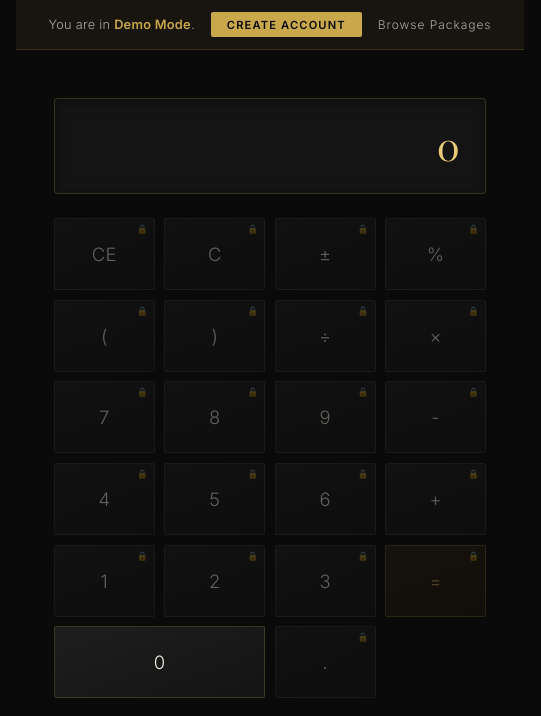
CalculatorPage › pressing 0 in demo mode updates the display
Click the button "0" at x=160, y=662, box top-left (54, 626), bottom-right (265, 698)
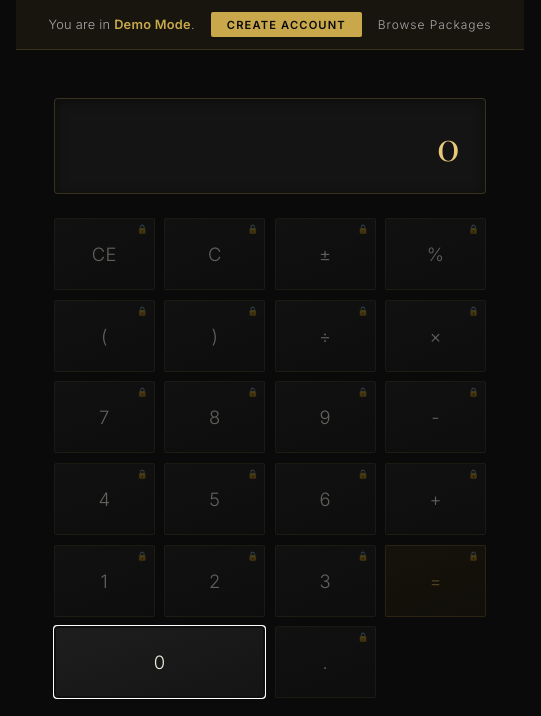
Click the button "0" at x=160, y=662, box top-left (54, 626), bottom-right (265, 698)
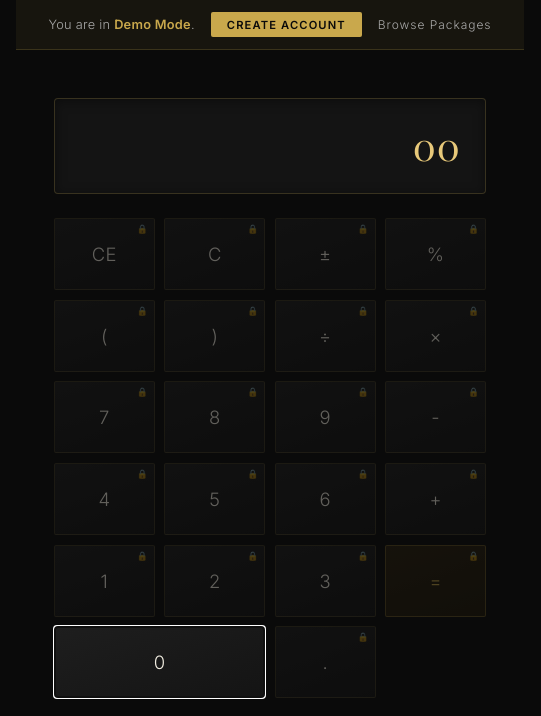
Expected: the text with test id "calc-display" reads "00", top-left (413, 119), bottom-right (461, 171)
